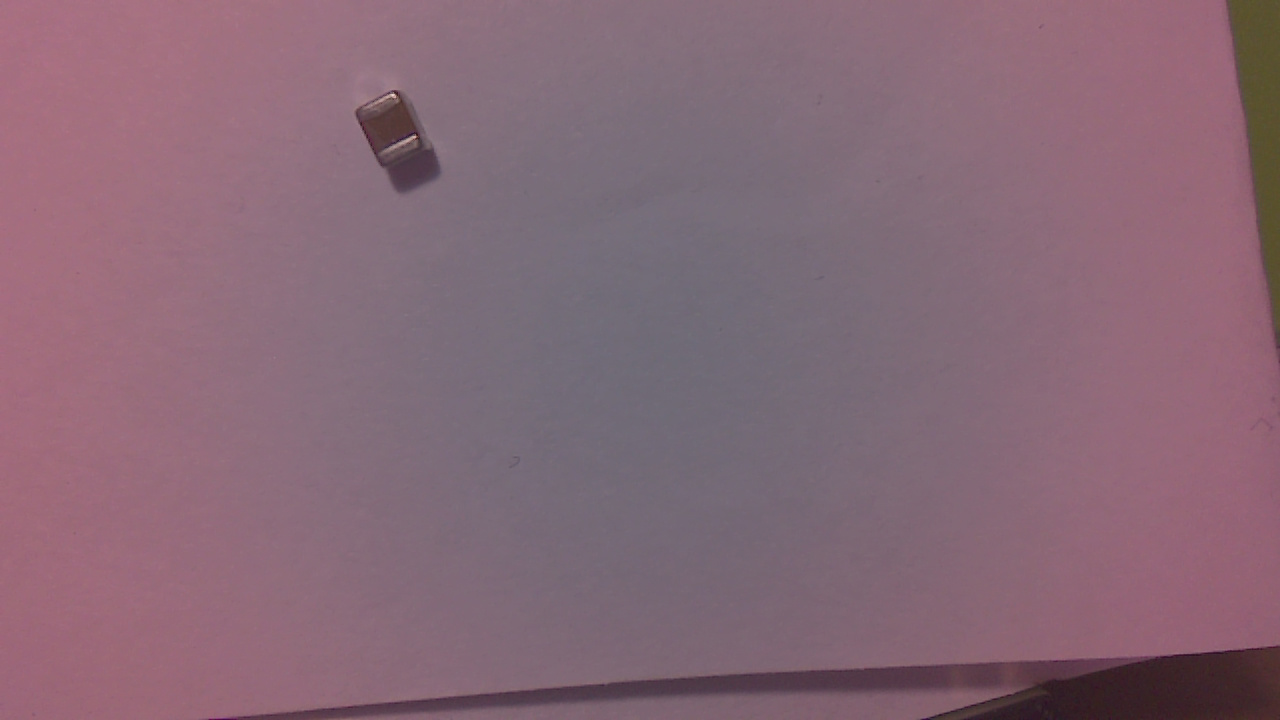Condensator: (357, 95, 436, 173)
